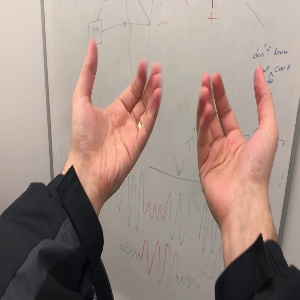hand: (72, 38, 162, 171), (196, 65, 278, 206)
